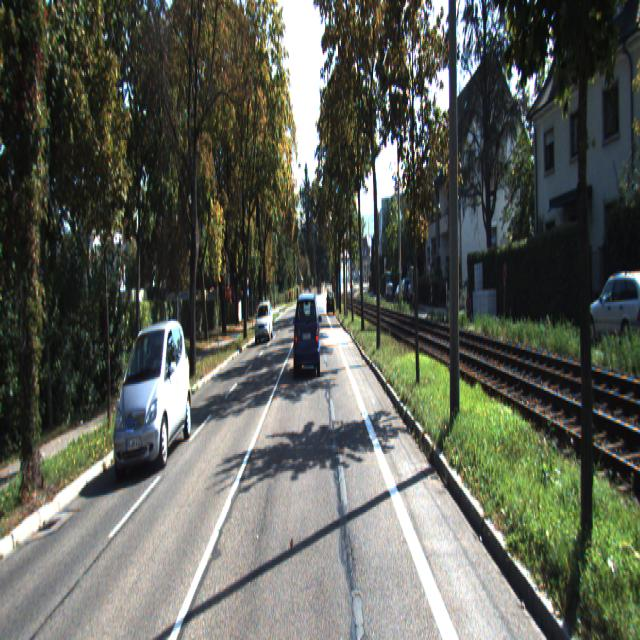Car: (115, 315, 193, 476), (585, 267, 639, 347), (293, 304, 321, 394), (254, 301, 273, 344), (327, 289, 335, 314)
DontCare: (348, 260, 421, 308)
